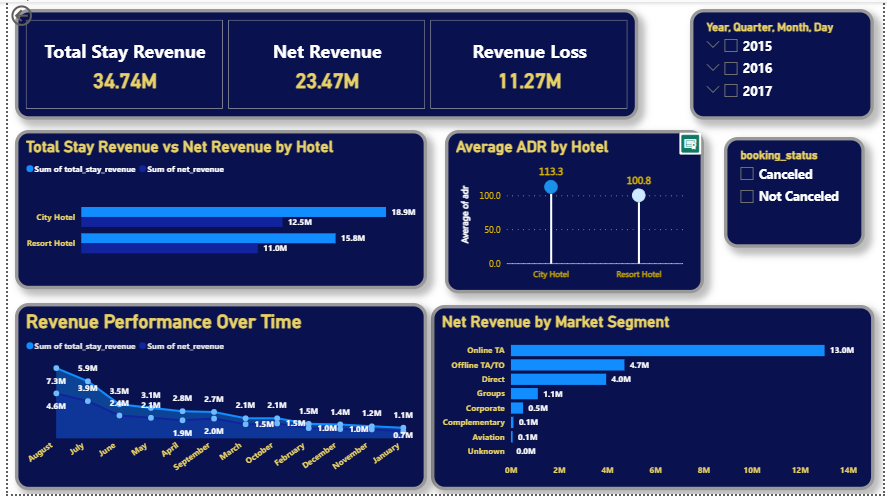

Layout of this report page (visuals, bound fields, positions):
{"tool":"powerbi","page":{"name":"Revenue & Pricing","canvas":[1280,720],"ordinal":2},"visuals":[{"type":"cardVisual","fields":{"Data":["Sum(HotelBookings_Clean.total_stay_revenue)","Sum(HotelBookings_Clean.net_revenue)","Measures (2).Revenue Loss"]},"box":[10.4,10.4,912.4,162.2],"z":0},{"type":"clusteredBarChart","title":"Total Stay Revenue vs Net Revenue by Hotel","fields":{"Category":["HotelBookings_Clean.hotel"],"Y":["Sum(HotelBookings_Clean.total_stay_revenue)","Sum(HotelBookings_Clean.net_revenue)"]},"box":[10.2,187.3,602.9,232.7],"z":1000},{"type":"lollipopChart50393786178B4137A75F3257CB590B96","title":"Average ADR by Hotel","fields":{"category":["HotelBookings_Clean.hotel"],"measure":["Avg(HotelBookings_Clean.adr)"]},"box":[639.5,187.3,379,238.5],"z":2000},{"type":"clusteredBarChart","title":"Net Revenue by Market Segment","fields":{"Category":["HotelBookings_Clean.market_segment"],"Y":["Sum(HotelBookings_Clean.net_revenue)"]},"box":[619.2,443.5,648.9,270.9],"z":3000},{"type":"areaChart","title":"Revenue Performance Over Time","fields":{"Category":["HotelBookings_Clean.arrival_date_month"],"Y":["Sum(HotelBookings_Clean.total_stay_revenue)","Sum(HotelBookings_Clean.net_revenue)"]},"box":[10.4,440.6,602.8,273.9],"z":4000},{"type":"slicer","title":"Average ADR by Hotel","fields":{"Values":["HotelBookings_Clean.arrival_date.Variation.Date Hierarchy.Year","HotelBookings_Clean.arrival_date.Variation.Date Hierarchy.Quarter","HotelBookings_Clean.arrival_date.Variation.Date Hierarchy.Month","HotelBookings_Clean.arrival_date.Variation.Date Hierarchy.Day"]},"box":[998.7,10.4,269.4,162.2],"z":5000},{"type":"actionButton","box":[0,0,100,40],"z":6000},{"type":"slicer","title":"Average ADR by Hotel","fields":{"Values":["HotelBookings_Clean.booking_status"]},"box":[1047.8,197.6,206.3,162.4],"z":7001}]}

Visuals, with their boxes in screenshot pixels (x1, y1, x2, y2), scaled from the page's 1280x720 canvas onto the 887x498 screenshot:
cardVisual - Sum(HotelBookings_Clean.total_stay_revenue) x Sum(HotelBookings_Clean.net_revenue): detection(7, 7, 639, 119)
"Total Stay Revenue vs Net Revenue by Hotel" clusteredBarChart: detection(7, 130, 425, 290)
"Average ADR by Hotel" lollipopChart50393786178B4137A75F3257CB590B96: detection(443, 130, 706, 295)
"Net Revenue by Market Segment" clusteredBarChart: detection(429, 307, 879, 494)
"Revenue Performance Over Time" areaChart: detection(7, 305, 425, 494)
"Average ADR by Hotel" slicer: detection(692, 7, 879, 119)
actionButton: detection(0, 0, 69, 28)
"Average ADR by Hotel" slicer: detection(726, 137, 869, 249)
